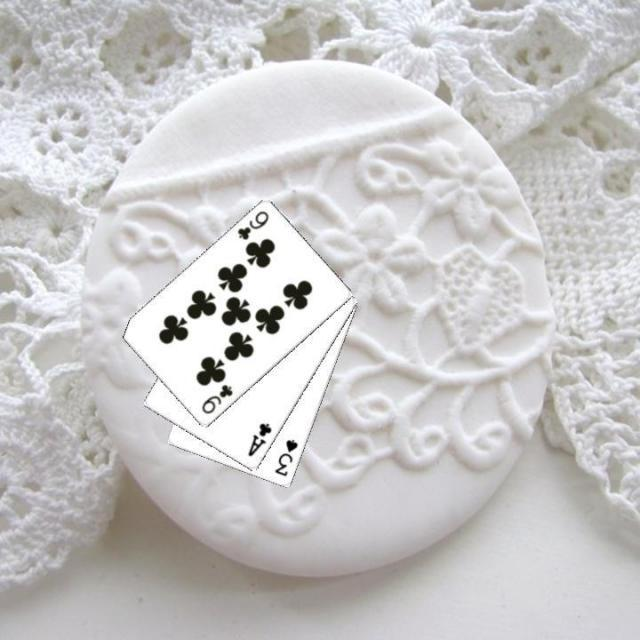3S: (271, 436, 299, 478)
9C: (197, 380, 235, 416), (233, 207, 271, 243)
AC: (244, 420, 274, 459)
